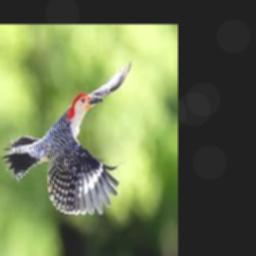Woodpecker: (3, 59, 132, 215)
